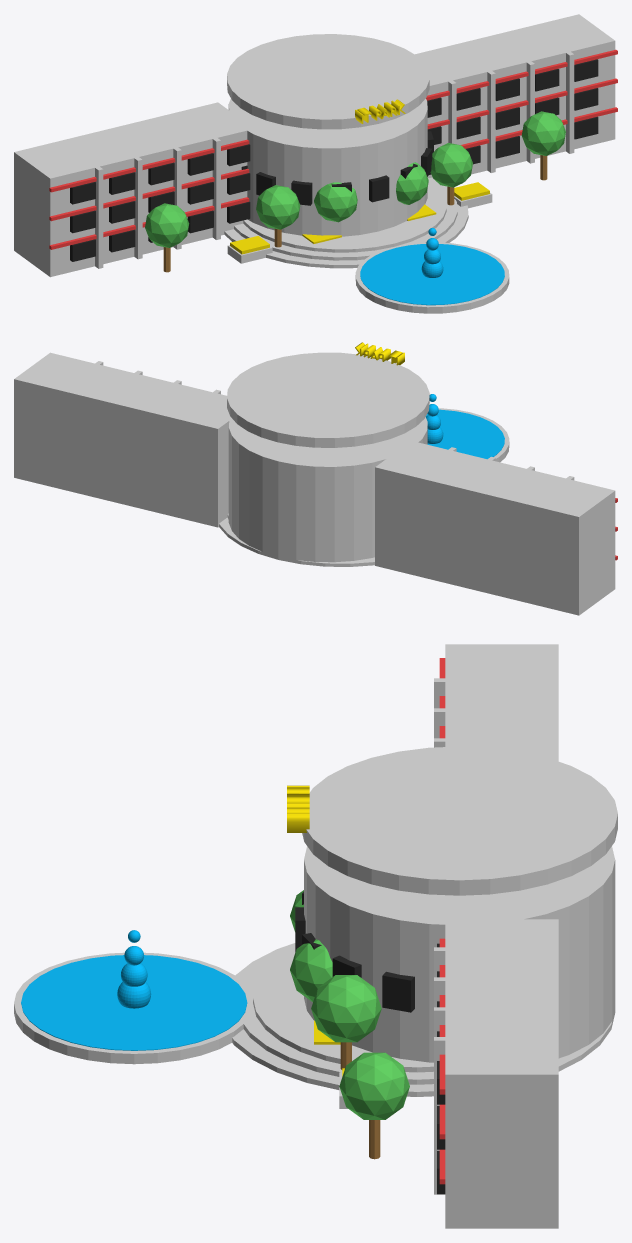
File: itpark.glb
The picture shows the model from 3 angles, top to bottom: view 1: azimuth 30°, elevation 25°; view 2: azimuth 150°, elevation 25°; view 3: azimuth 270°, elevation 25°; orthographic projection. The views are drawn at different scales.
Visible parts, largest first — view 1: Cube, Cylinder.007, Cylinder, Cube.034, Cylinder.012, Cylinder.010, Cylinder.009, Cylinder.011, Icosphere.005, Icosphere.004, Icosphere, Cylinder.008 (+45 smaller); view 2: Cube, Cube.034, Cylinder, Cylinder.007, Cylinder.012, Cylinder.008, IT_PARK_Sign, Cylinder.011; view 3: Cylinder.007, Cube.034, Cylinder, Cylinder.012, Cube, Cylinder.010, Cylinder.011, Icosphere.003, Icosphere.005, Cylinder.008, Cylinder.009, Icosphere.002 (+2 smaller).
Part boxes in pixels (left/top/right/bottom): Cube: left=14, top=102, right=253, bottom=277; Cylinder.007: left=227, top=34, right=429, bottom=129; Cylinder: left=228, top=98, right=427, bottom=236; Cube.034: left=415, top=14, right=615, bottom=178; Cylinder.012: left=360, top=244, right=504, bottom=305; Cylinder.010: left=243, top=180, right=446, bottom=252; Cylinder.009: left=234, top=177, right=457, bottom=260; Cylinder.011: left=355, top=242, right=509, bottom=313; Icosphere.005: left=521, top=111, right=565, bottom=155; Icosphere.004: left=145, top=203, right=189, bottom=247; Icosphere: left=256, top=185, right=300, bottom=229; Cylinder.008: left=224, top=186, right=468, bottom=268; Cube: left=375, top=441, right=615, bottom=615; Cube.034: left=14, top=352, right=230, bottom=527; Cylinder: left=228, top=417, right=427, bottom=563; Cylinder.007: left=227, top=352, right=429, bottom=447; Cylinder.012: left=425, top=409, right=504, bottom=459; Cylinder.008: left=219, top=517, right=374, bottom=566; IT_PARK_Sign: left=355, top=342, right=404, bottom=365; Cylinder.011: left=438, top=408, right=509, bottom=462; Cylinder.007: left=302, top=746, right=617, bottom=895; Cube.034: left=445, top=919, right=558, bottom=1228; Cylinder: left=304, top=846, right=615, bottom=1062; Cylinder.012: left=21, top=955, right=247, bottom=1050; Cube: left=445, top=644, right=558, bottom=761; Cylinder.010: left=253, top=952, right=433, bottom=1072; Cylinder.011: left=14, top=952, right=251, bottom=1064; Icosphere.003: left=311, top=975, right=381, bottom=1042; Icosphere.005: left=339, top=1052, right=409, bottom=1119; Cylinder.008: left=232, top=943, right=612, bottom=1096; Cylinder.009: left=240, top=947, right=433, bottom=1084; Icosphere.002: left=290, top=939, right=332, bottom=1001.
Size of the model in its own units: 72.2 by 16.5 by 42.7.
